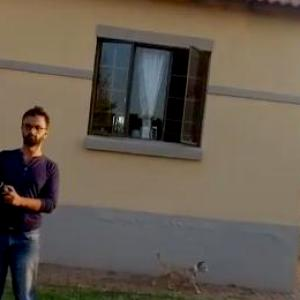follow: (0, 100, 67, 299)
null: (155, 244, 218, 296)
